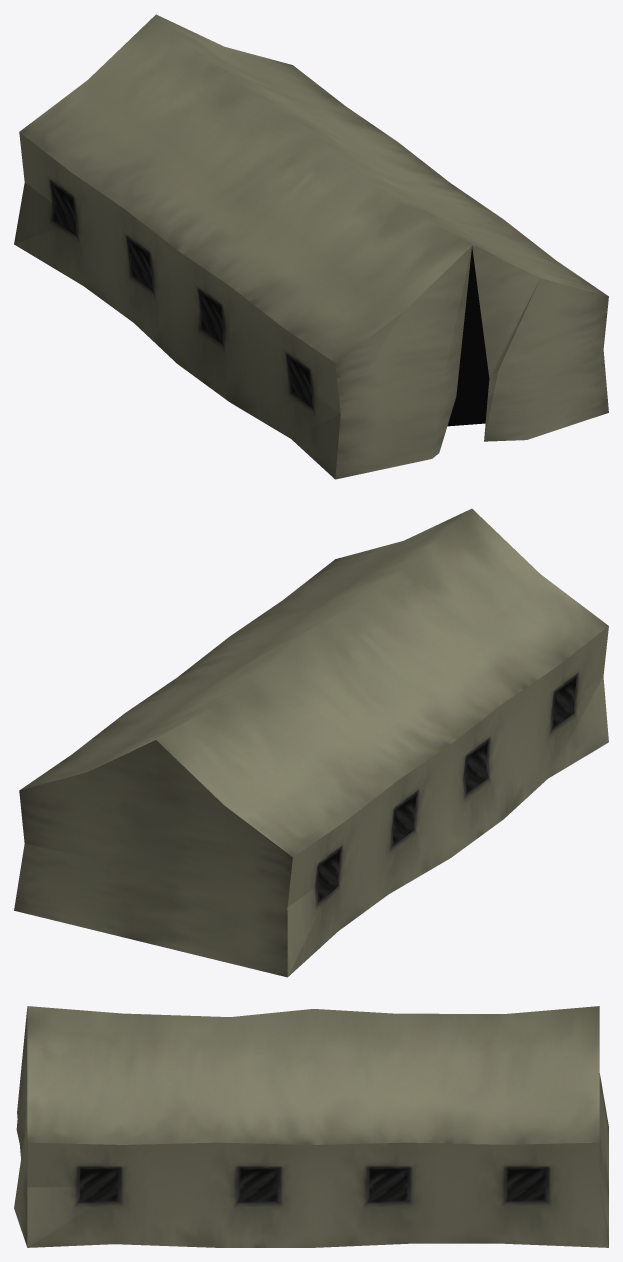
File: tent.obj
The picture shows the model from 3 angles, top to bottom: view 1: azimuth 30°, elevation 25°; view 2: azimuth 150°, elevation 25°; view 3: azimuth 270°, elevation 25°; orthographic projection. The views are drawn at different scales.
Visible parts, largest first — view 1: Tent; view 2: Tent; view 3: Tent.
Boxes of the visible parts, x1=… form: Tent: x1=14, y1=14, x2=608, y2=479; Tent: x1=14, y1=508, x2=608, y2=977; Tent: x1=14, y1=1006, x2=608, y2=1247.
Size of the model in its own units: 8.71 by 6.1 by 18.12.
Materials: 1 (1 with a texture image).
